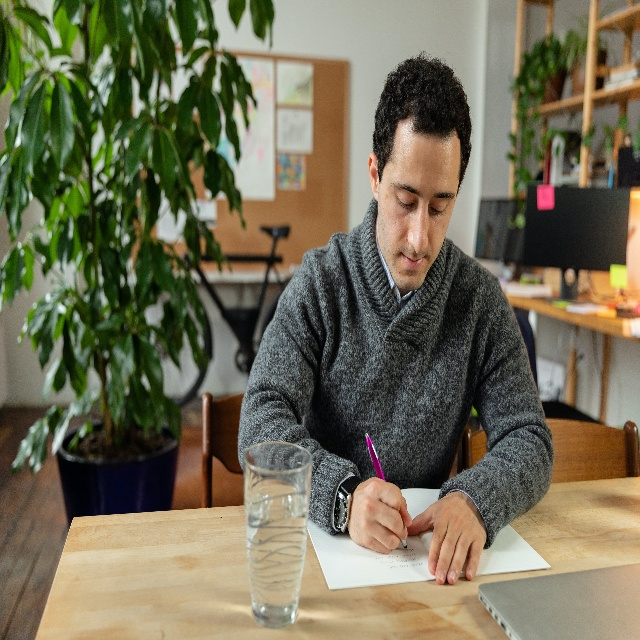Sin_guantes: (405, 490, 488, 587), (348, 475, 413, 558)
